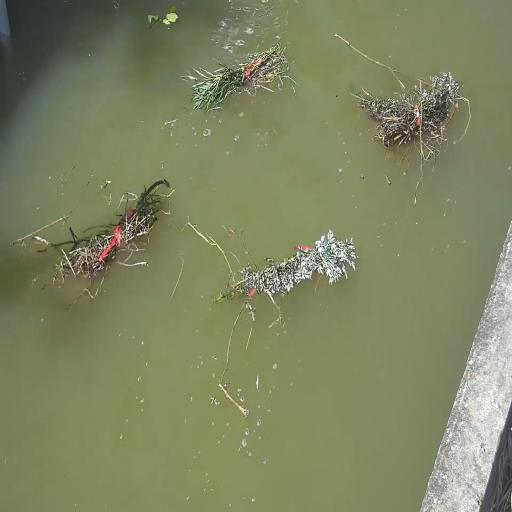twig: (212, 226, 356, 310), (355, 56, 460, 159), (52, 191, 148, 283), (181, 38, 285, 114), (143, 0, 182, 34)
